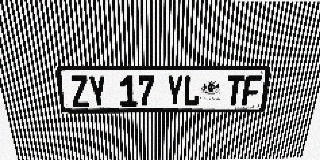1: (119, 75, 137, 107)
7: (137, 75, 154, 107)
F: (241, 75, 262, 106)
L: (183, 75, 201, 106)
T: (225, 75, 245, 106)
Y: (88, 75, 107, 107), (166, 75, 184, 106)
Z: (69, 75, 90, 107)
